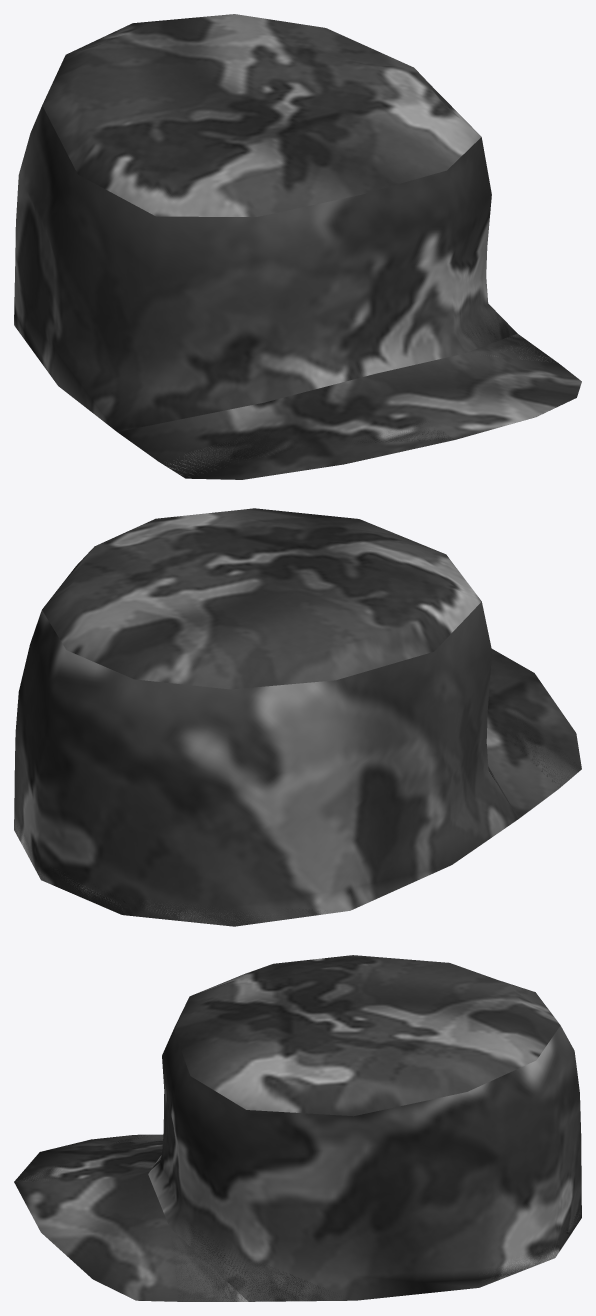
File: PatrolCap_WorldItem.fbx
The picture shows the model from 3 angles, top to bottom: view 1: azimuth 30°, elevation 25°; view 2: azimuth 150°, elevation 25°; view 3: azimuth 270°, elevation 25°; orthographic projection. The views are drawn at different scales.
Parts seen in each view (by area): view 1: Circle.003; view 2: Circle.003; view 3: Circle.003.
Part boxes in pixels (<box>): Circle.003: <box>14,14,581,479</box>; Circle.003: <box>14,508,581,926</box>; Circle.003: <box>14,955,581,1301</box>.
Size of the model in its own units: 0.3268 by 0.19 by 0.4691.
